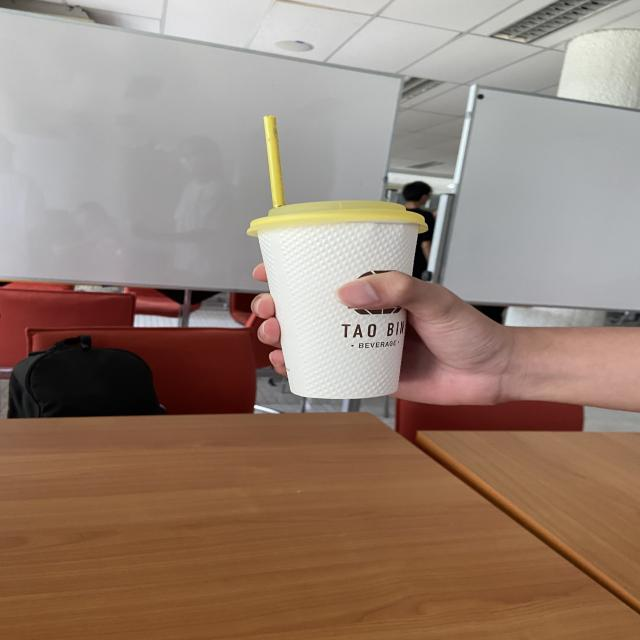cup: (245, 201, 432, 400)
